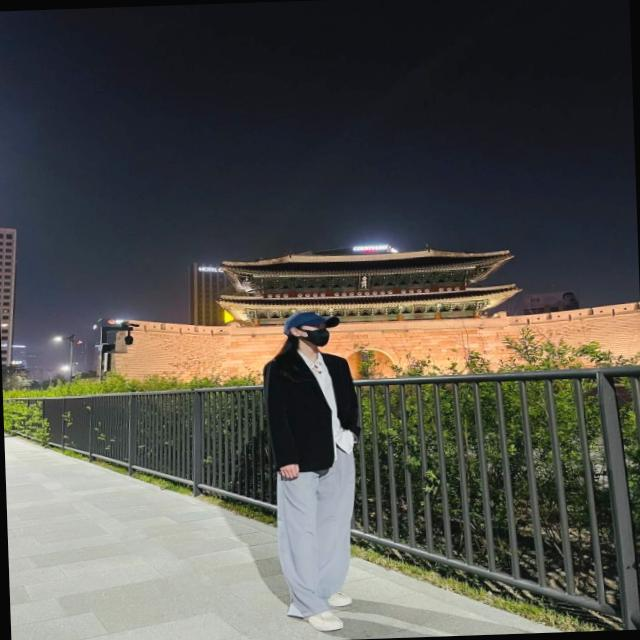blazer: (260, 341, 366, 471)
slacks: (275, 420, 358, 622)
